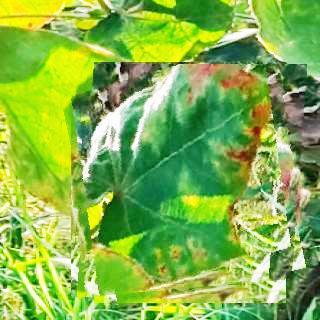blight: (71, 64, 309, 300)
